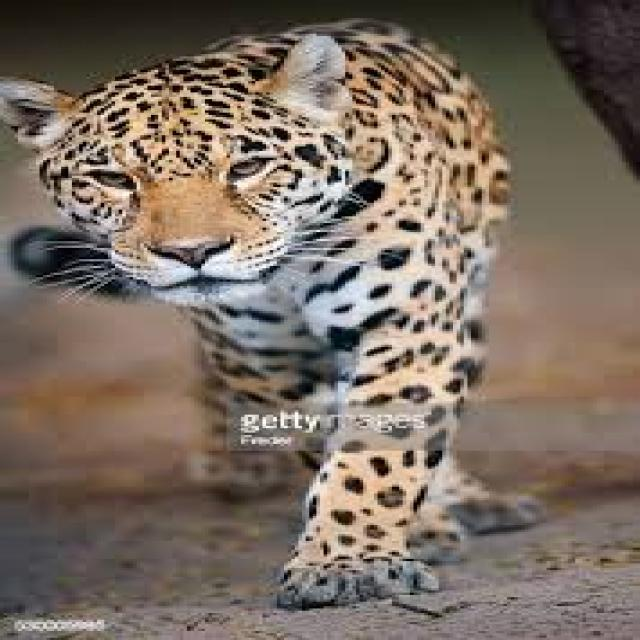Jaguar: (21, 7, 543, 590)
